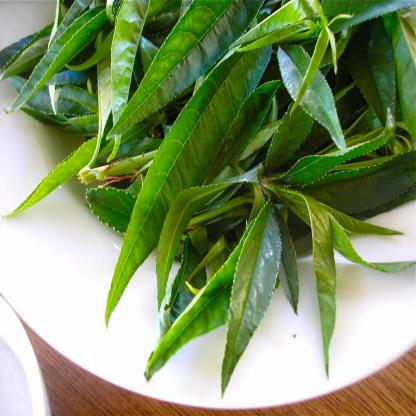peach leaf: (102, 25, 275, 329), (105, 1, 266, 140), (159, 172, 257, 308), (214, 201, 280, 397), (147, 239, 237, 374), (6, 6, 105, 119), (280, 110, 396, 188), (279, 42, 349, 155)
